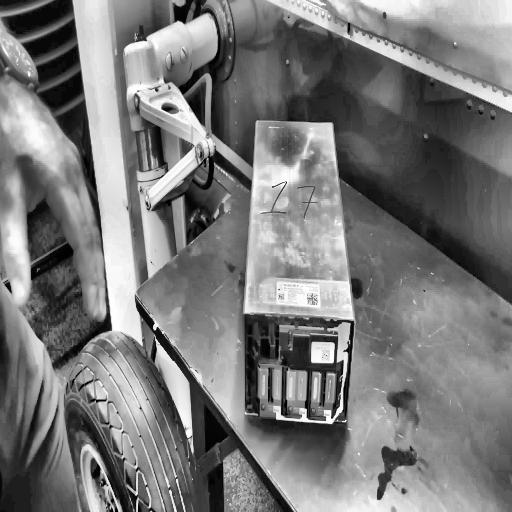battery_module: (243, 119, 355, 424)
